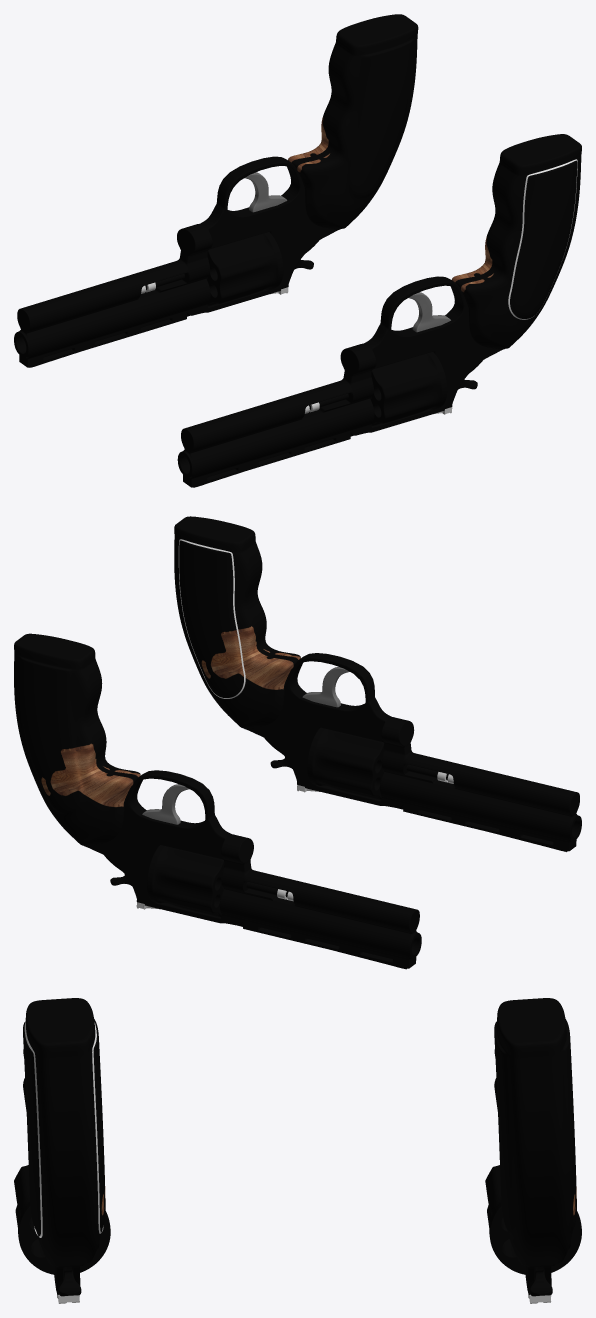
File: WildWest_Dualpistols.fbx
The picture shows the model from 3 angles, top to bottom: view 1: azimuth 30°, elevation 25°; view 2: azimuth 150°, elevation 25°; view 3: azimuth 270°, elevation 25°; orthographic projection. The views are drawn at different scales.
Parts seen in each view (by area): view 1: Gun.002, Gun, Gun Handle.002, Gun Handle, Revolver, Revolver.002, Trigger, Trigger.002; view 2: Gun, Gun.002, Gun Handle.002, Gun Handle, Revolver, Revolver.002, Trigger, Trigger.002, Example Panels_004; view 3: Gun Handle.002, Gun Handle, Revolver.002, Revolver, Example Panels_004, Gun.002, Gun.
Boxes of the visible parts, x1,y1,x2,y2 form: Gun.002: [14, 156, 339, 367]; Gun: [177, 276, 502, 487]; Gun Handle.002: [288, 14, 418, 229]; Gun Handle: [451, 134, 581, 349]; Revolver: [370, 352, 447, 425]; Revolver.002: [206, 232, 283, 306]; Trigger: [408, 292, 450, 332]; Trigger.002: [244, 172, 287, 212]; Gun: [246, 653, 581, 852]; Gun.002: [86, 770, 421, 969]; Gun Handle.002: [14, 633, 140, 846]; Gun Handle: [174, 516, 300, 729]; Revolver: [307, 727, 384, 799]; Revolver.002: [147, 845, 224, 916]; Trigger: [302, 667, 349, 707]; Trigger.002: [142, 784, 189, 824]; Example Panels_004: [178, 539, 245, 698]; Gun Handle.002: [494, 998, 576, 1267]; Gun Handle: [23, 998, 105, 1267]; Revolver.002: [485, 1165, 581, 1274]; Revolver: [14, 1165, 110, 1274]; Example Panels_004: [24, 1021, 103, 1237]; Gun.002: [494, 1049, 552, 1296]; Gun: [23, 1049, 81, 1296].
Size of the model in its own units: 32.53 by 19.38 by 27.87.
